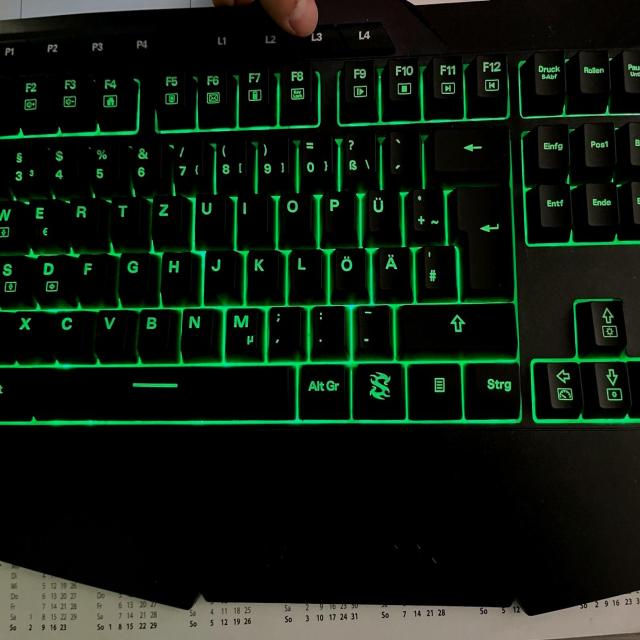0: (297, 127, 333, 185)
3: (5, 137, 39, 193)
4: (45, 137, 78, 187)
5: (86, 135, 119, 188)
6: (128, 136, 162, 186)
7: (170, 131, 203, 188)
8: (212, 128, 246, 190)
9: (255, 127, 289, 188)
accent: (387, 124, 420, 175)
ae: (376, 243, 411, 290)
altgr-right: (297, 359, 347, 418)
b: (134, 305, 170, 351)
c: (48, 307, 86, 352)
comma: (266, 302, 301, 351)
d: (31, 252, 66, 302)
del: (428, 121, 511, 173)
e: (24, 196, 58, 241)
enter: (452, 182, 513, 293)
f: (73, 251, 107, 296)
g: (116, 250, 149, 294)
h: (159, 248, 191, 294)
hash: (420, 242, 456, 291)
i: (235, 190, 268, 235)
j: (202, 247, 236, 293)
k: (245, 246, 279, 292)
keyboard: (0, 27, 639, 446)
l: (287, 245, 321, 290)
m: (223, 304, 258, 352)
minus: (354, 301, 390, 349)
n: (179, 304, 214, 351)
o: (277, 189, 311, 234)
oe: (330, 244, 366, 290)
p: (321, 188, 355, 233)
plus: (410, 184, 444, 233)
point: (309, 302, 345, 349)
r: (65, 196, 100, 239)
s: (0, 253, 26, 301)
shift-right: (397, 300, 518, 349)
space: (23, 364, 296, 421)
ss: (340, 125, 376, 181)
strg-right: (470, 358, 522, 414)
t: (108, 194, 140, 238)
u: (192, 190, 226, 237)
ue: (365, 185, 399, 232)
v: (93, 306, 128, 352)
w: (0, 198, 21, 240)
x: (7, 307, 43, 352)
z: (149, 191, 182, 237)
